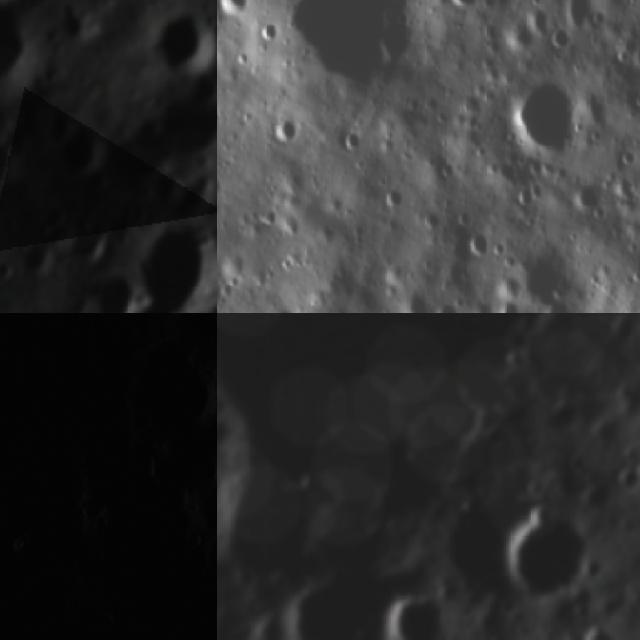crater: (217, 313, 612, 500), (259, 0, 425, 97), (108, 318, 217, 457), (217, 479, 335, 583), (505, 503, 602, 605), (95, 107, 189, 200), (136, 209, 217, 313), (500, 70, 580, 162), (148, 4, 212, 86), (0, 2, 50, 105), (162, 85, 217, 165), (392, 581, 461, 640), (62, 120, 113, 194), (186, 509, 217, 598), (91, 267, 143, 313), (68, 217, 112, 268), (171, 169, 217, 215), (18, 241, 62, 281), (58, 4, 105, 41), (0, 138, 29, 189), (570, 180, 609, 216), (38, 201, 72, 238), (274, 112, 308, 146), (607, 317, 640, 350), (442, 0, 491, 21), (397, 287, 435, 313), (562, 0, 599, 26), (217, 0, 255, 24), (523, 4, 550, 35), (217, 417, 237, 457), (205, 11, 217, 76), (618, 460, 640, 495), (126, 300, 183, 313), (469, 228, 490, 262), (338, 123, 363, 151), (0, 257, 20, 288), (432, 298, 466, 313), (583, 630, 631, 640), (217, 272, 228, 307)
